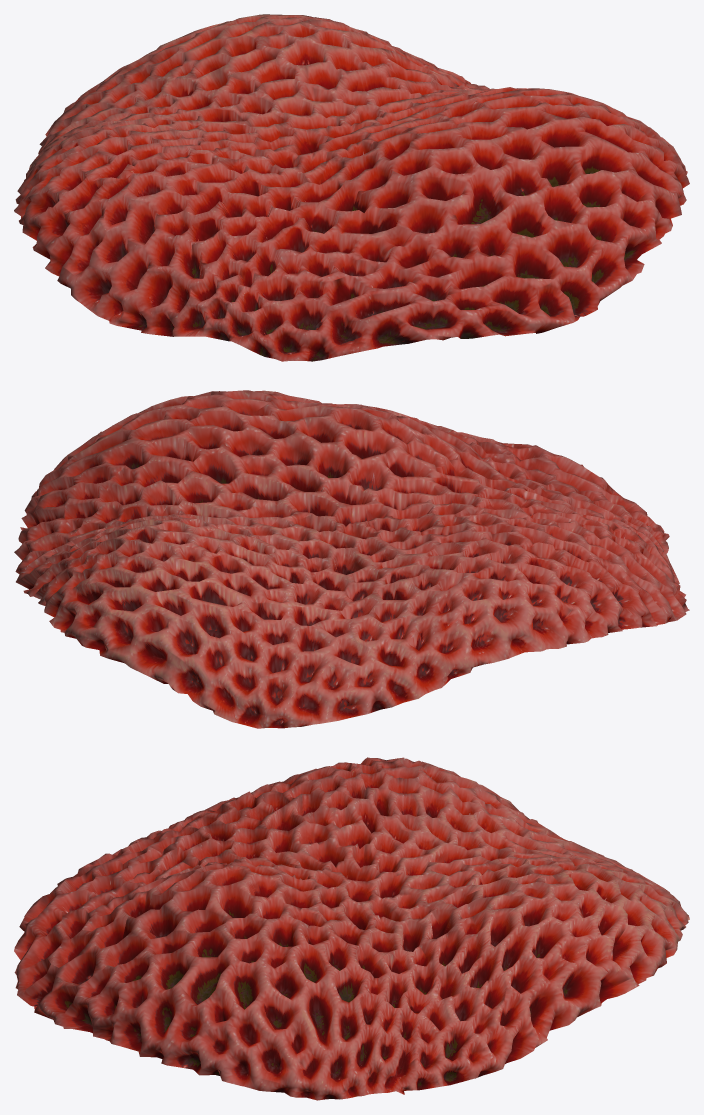
Rendered from coral_3.fbx.
3 renders of one model, top to bottom at view 1: azimuth 30°, elevation 25°; view 2: azimuth 150°, elevation 25°; view 3: azimuth 270°, elevation 25°, orthographic. The views are drawn at different scales.
Parts seen in each view (by area): view 1: Sphere.001; view 2: Sphere.001; view 3: Sphere.001.
Part boxes in pixels (left/top/right/bottom): Sphere.001: left=14, top=14, right=689, bottom=361; Sphere.001: left=14, top=390, right=689, bottom=728; Sphere.001: left=14, top=757, right=689, bottom=1100.
Bounding box in the file's own units: 814 × 155 × 797.
1 material, 1 textured.
